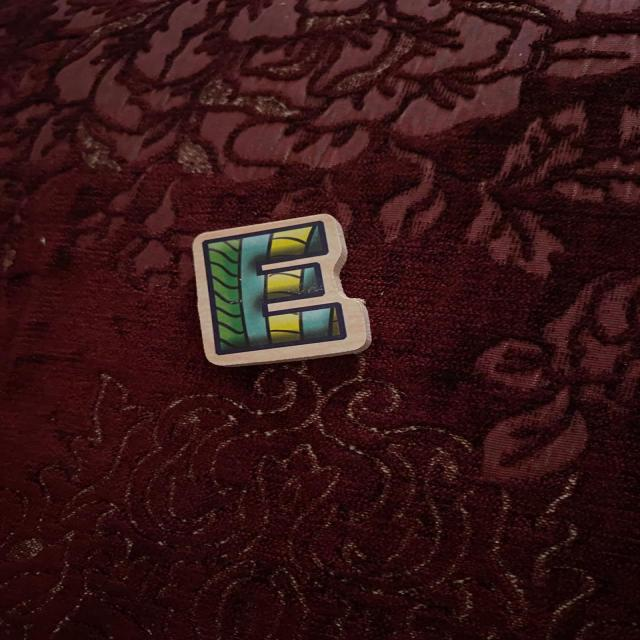E: (193, 214, 371, 366)
